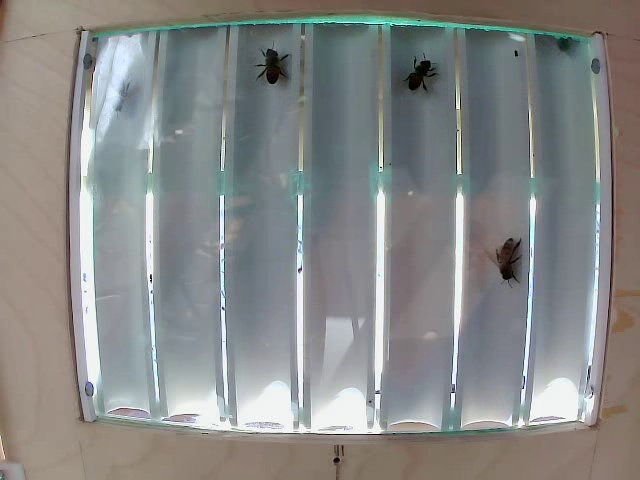bee: (497, 231, 527, 294), (269, 55, 304, 101), (408, 66, 444, 100)
